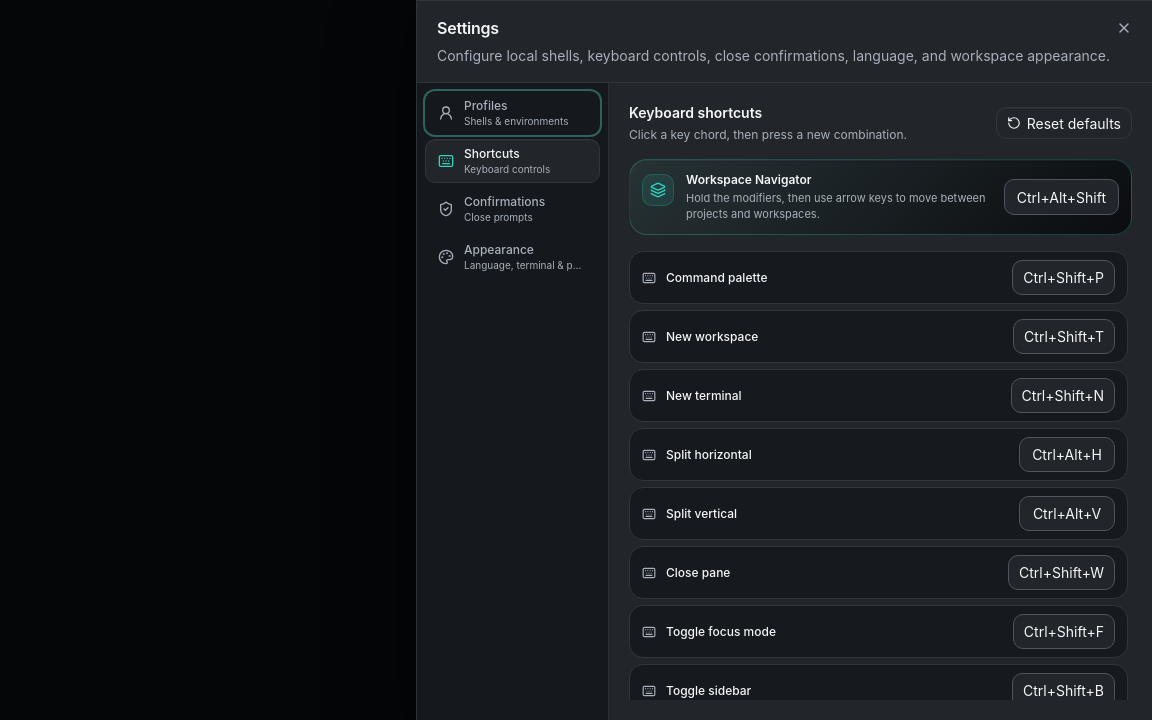
Scenario: SettingsSheet confirmations › switches the open settings UI to Turkish immediately
This screenshot has width=1152, height=720.
Step 1. Click the button "Appearance Language, terminal & panes" → click(512, 257), box [425,235,600,279]
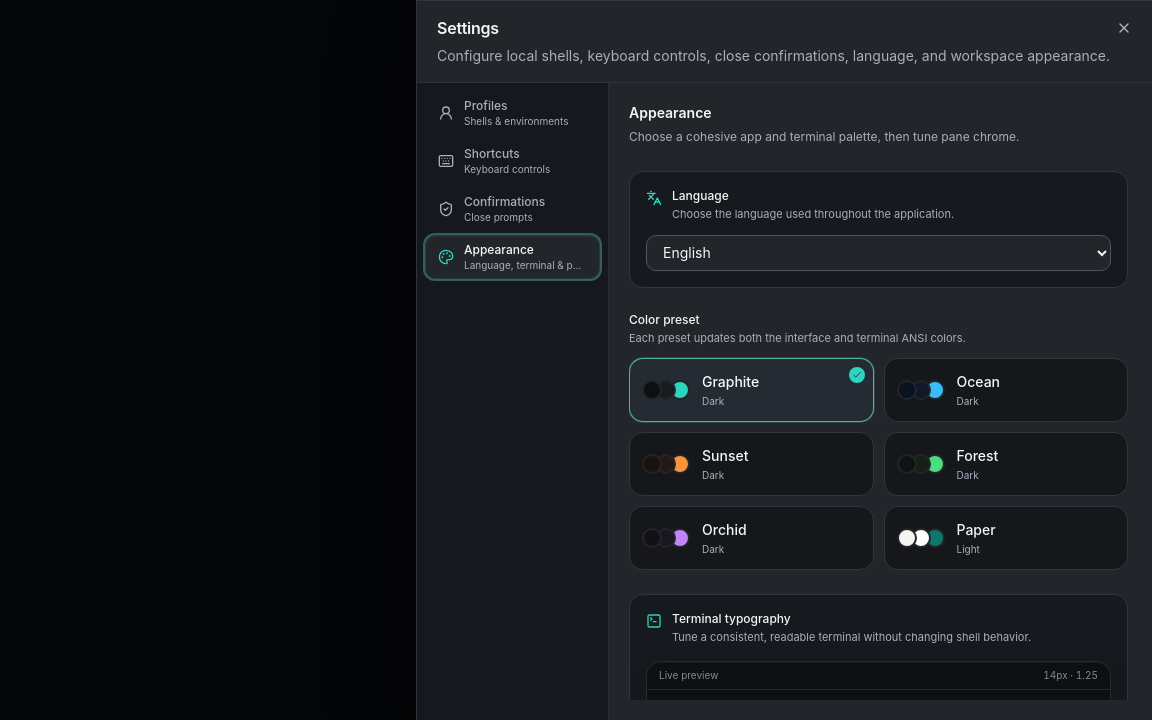
Step 2. Select "Türkçe" in the dropdown named "application language" → (878, 252), box [646,234,1111,270]
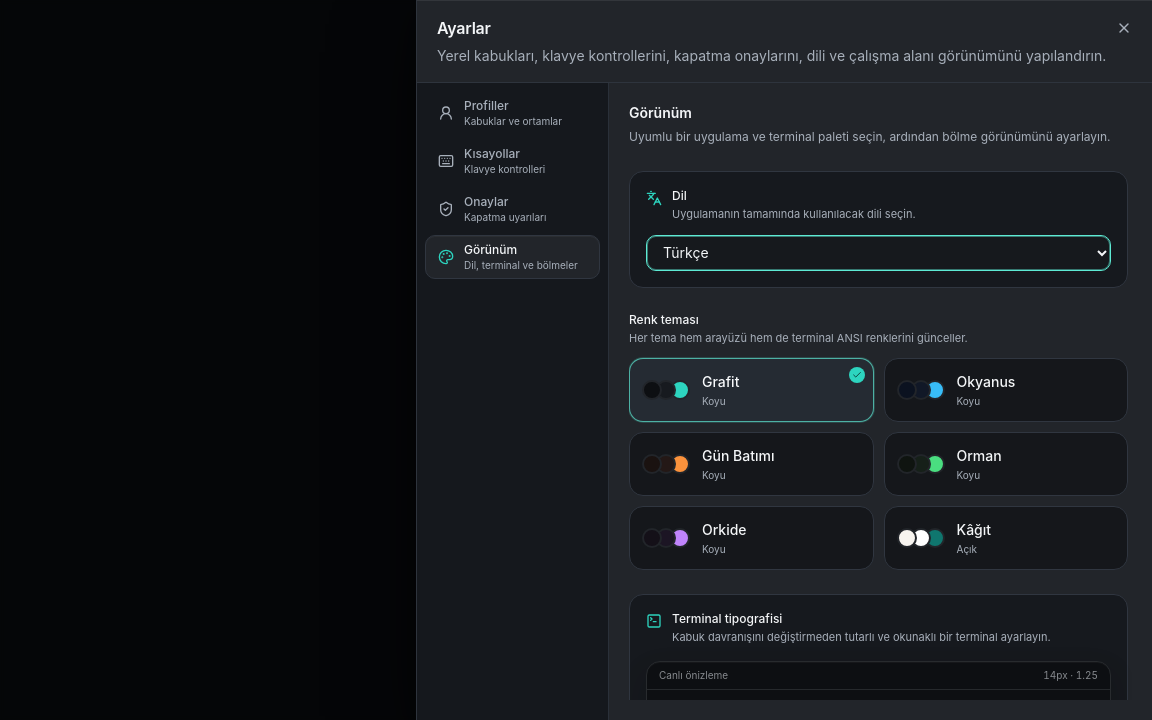
expect the heading "Ayarlar" is shown: met, box [437,18,491,38]
expect the heading "Görünüm" is shown: met, box [629,104,692,121]
